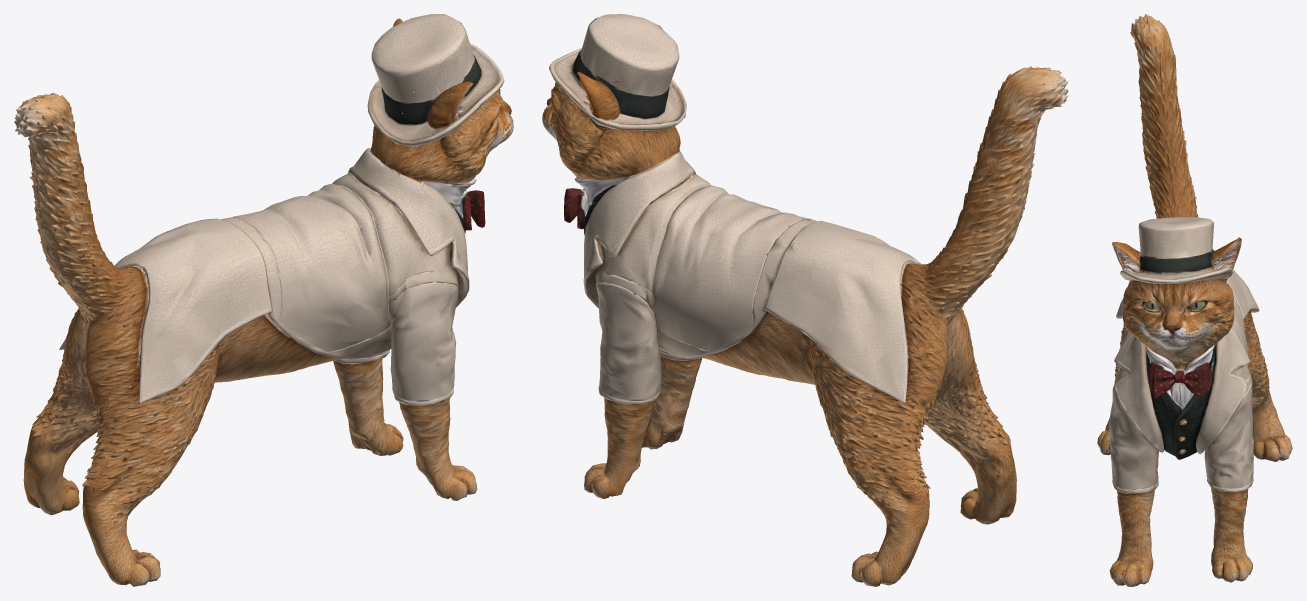
File: GIKKINGEN.glb
3 views of the same model, side by side, from view 1: azimuth 30°, elevation 25°; view 2: azimuth 150°, elevation 25°; view 3: azimuth 270°, elevation 25° (orthographic). The views are drawn at different scales.
Parts seen in each view (by area): view 1: tripo_node_233d3f1b-295c-4e0f-815c-659e613d774d; view 2: tripo_node_233d3f1b-295c-4e0f-815c-659e613d774d; view 3: tripo_node_233d3f1b-295c-4e0f-815c-659e613d774d.
Part boxes in pixels (x1,y1,x2,y2): tripo_node_233d3f1b-295c-4e0f-815c-659e613d774d: (14,14,513,586); tripo_node_233d3f1b-295c-4e0f-815c-659e613d774d: (542,14,1068,586); tripo_node_233d3f1b-295c-4e0f-815c-659e613d774d: (1097,14,1292,586).
Size of the model in its own units: 1.09 by 0.9998 by 0.4405.
Materials: 1 (1 with a texture image).
